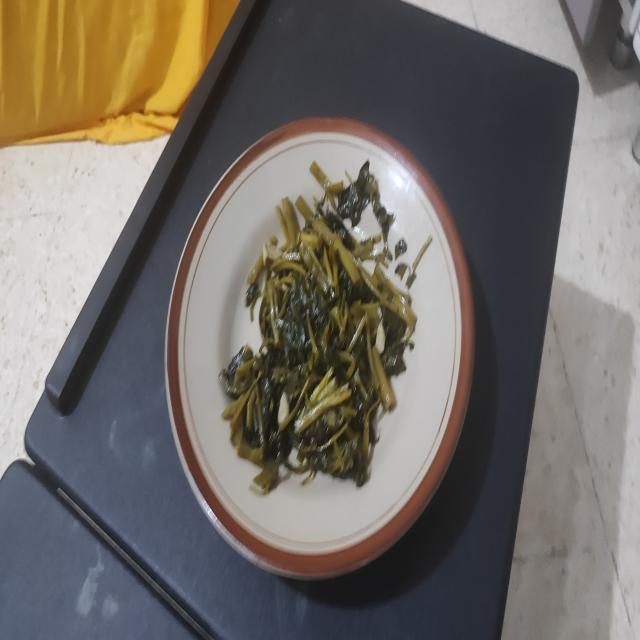tumis_kangkung: (220, 161, 416, 493)
